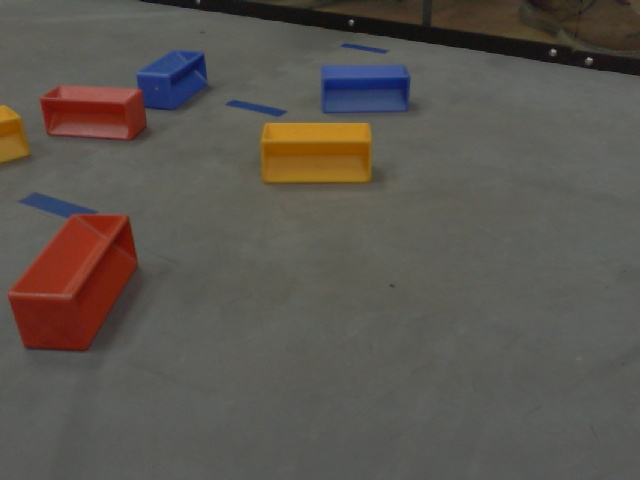BlueSample: (318, 60, 414, 117), (137, 46, 209, 112)
RedSample: (6, 210, 138, 354), (38, 82, 149, 140)
YellowSample: (257, 116, 379, 187), (1, 104, 33, 167)
